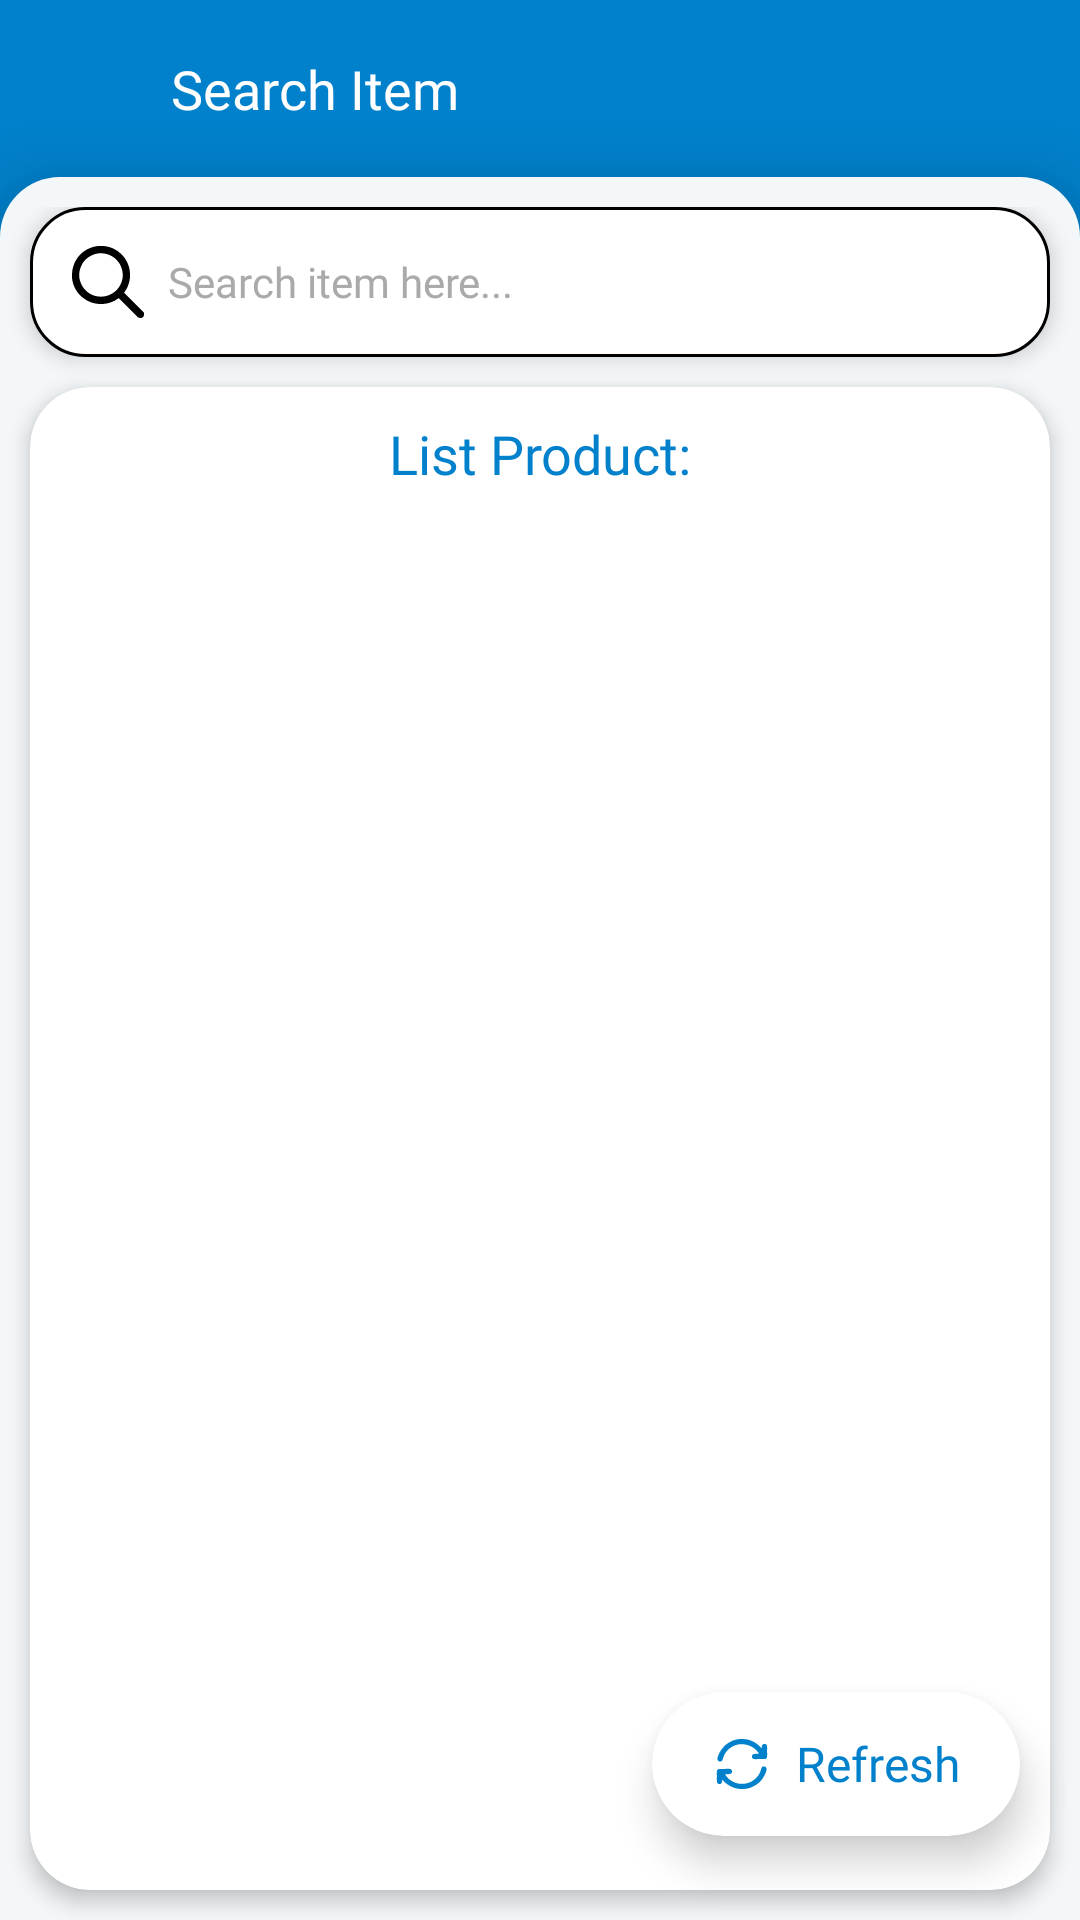

Named icons in this screenshot (1080 × 1920) and their bounding boxes, (x1, y1, x2, y2):
reload: (716, 1739, 768, 1789)
